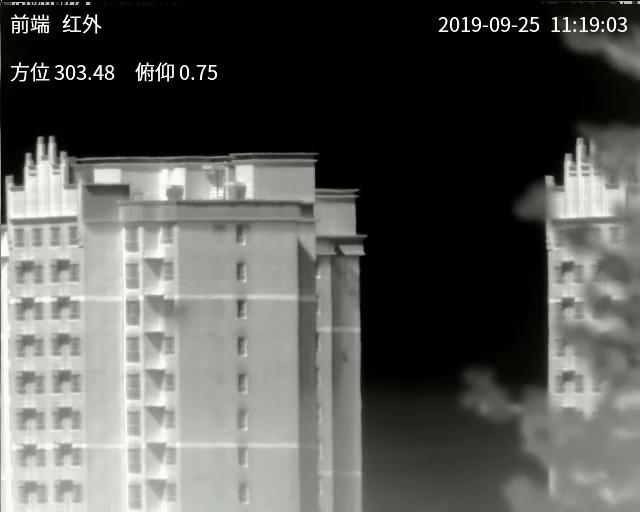uav: (160, 300, 196, 337)
